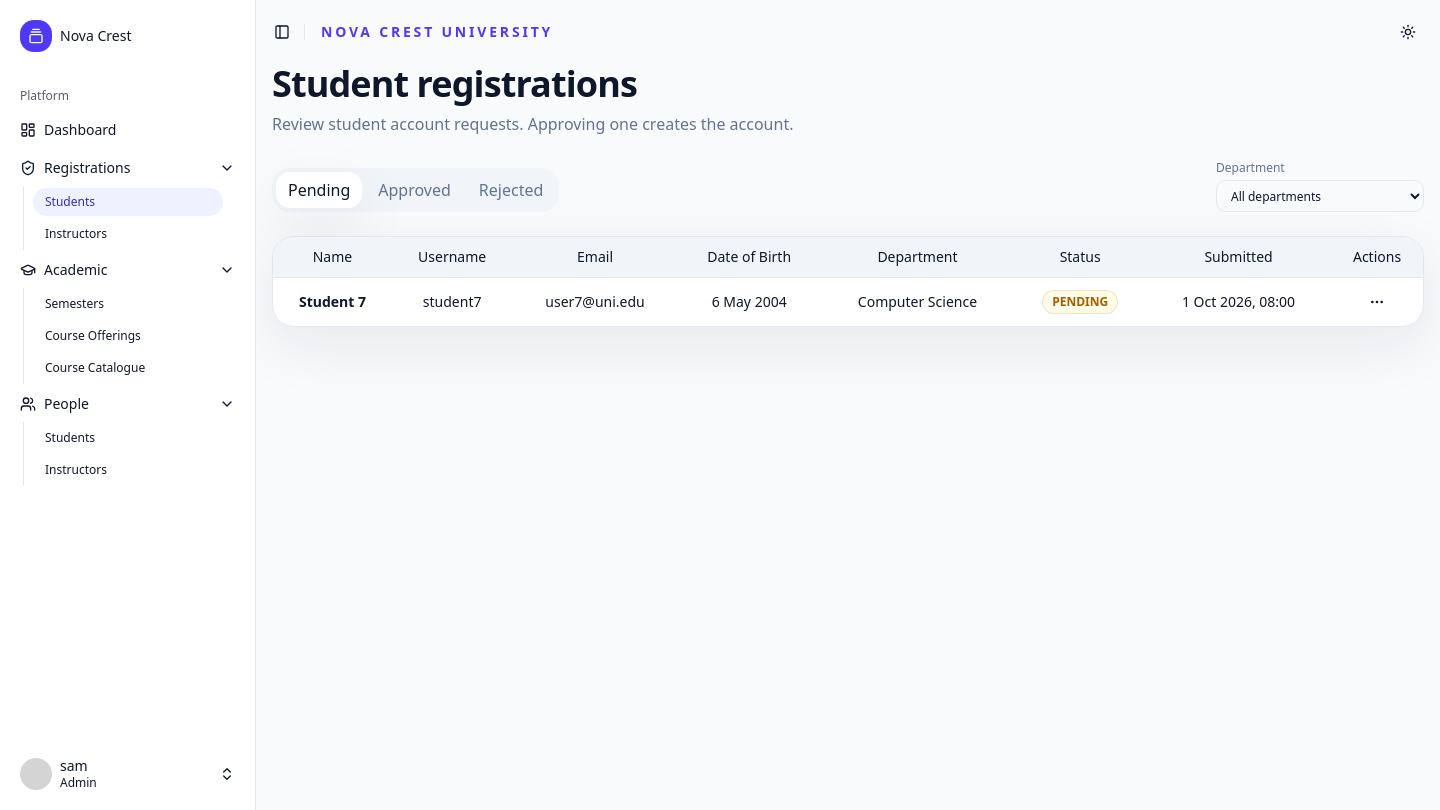
Test: RegistrationsView › approves a request after confirmation and refreshes the list
The image size is (1440, 810).
Click the button without text in the row of "Student 7": (1377,302) [1361,286,1393,318]
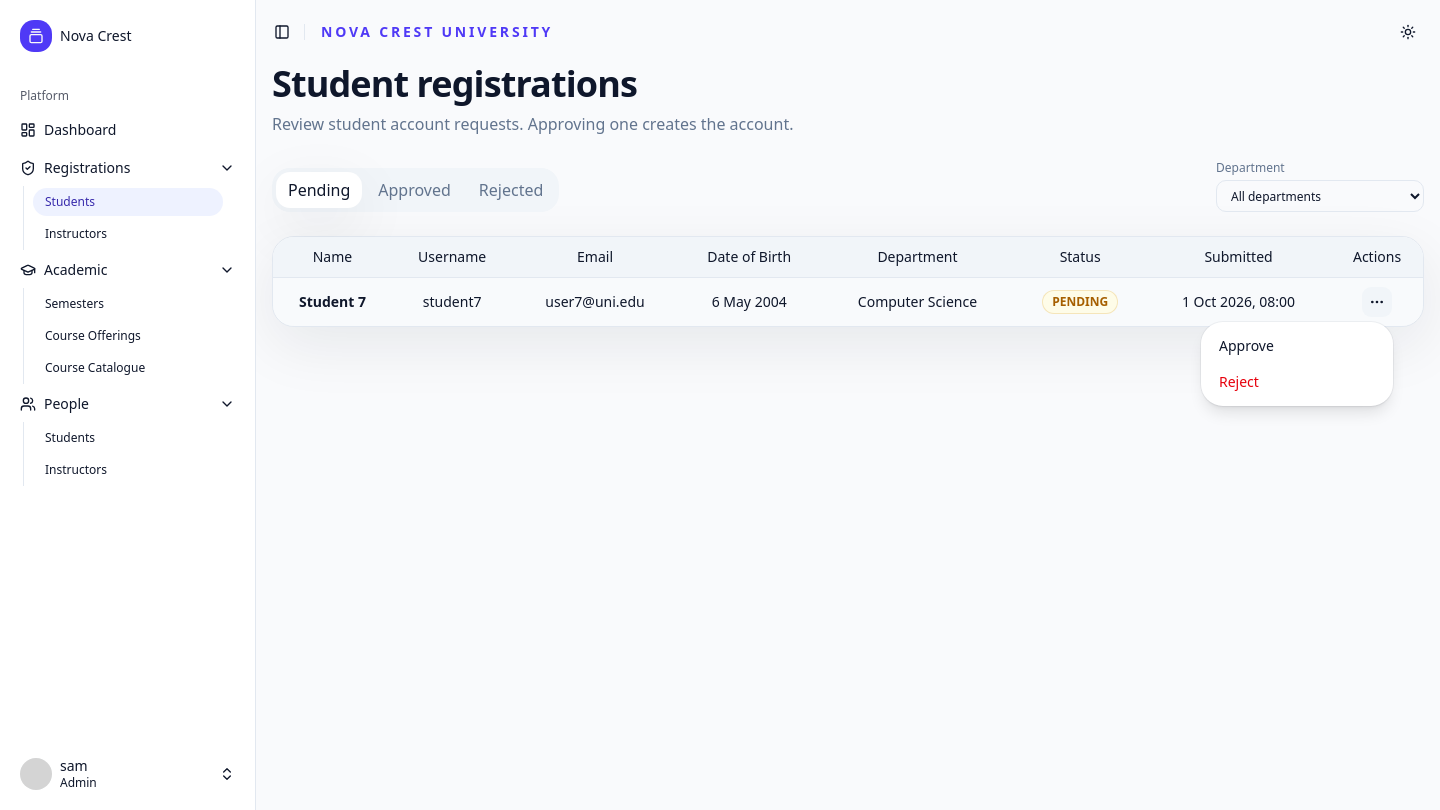
Click the menu item "Approve": (1246,346) [1219,336,1274,355]
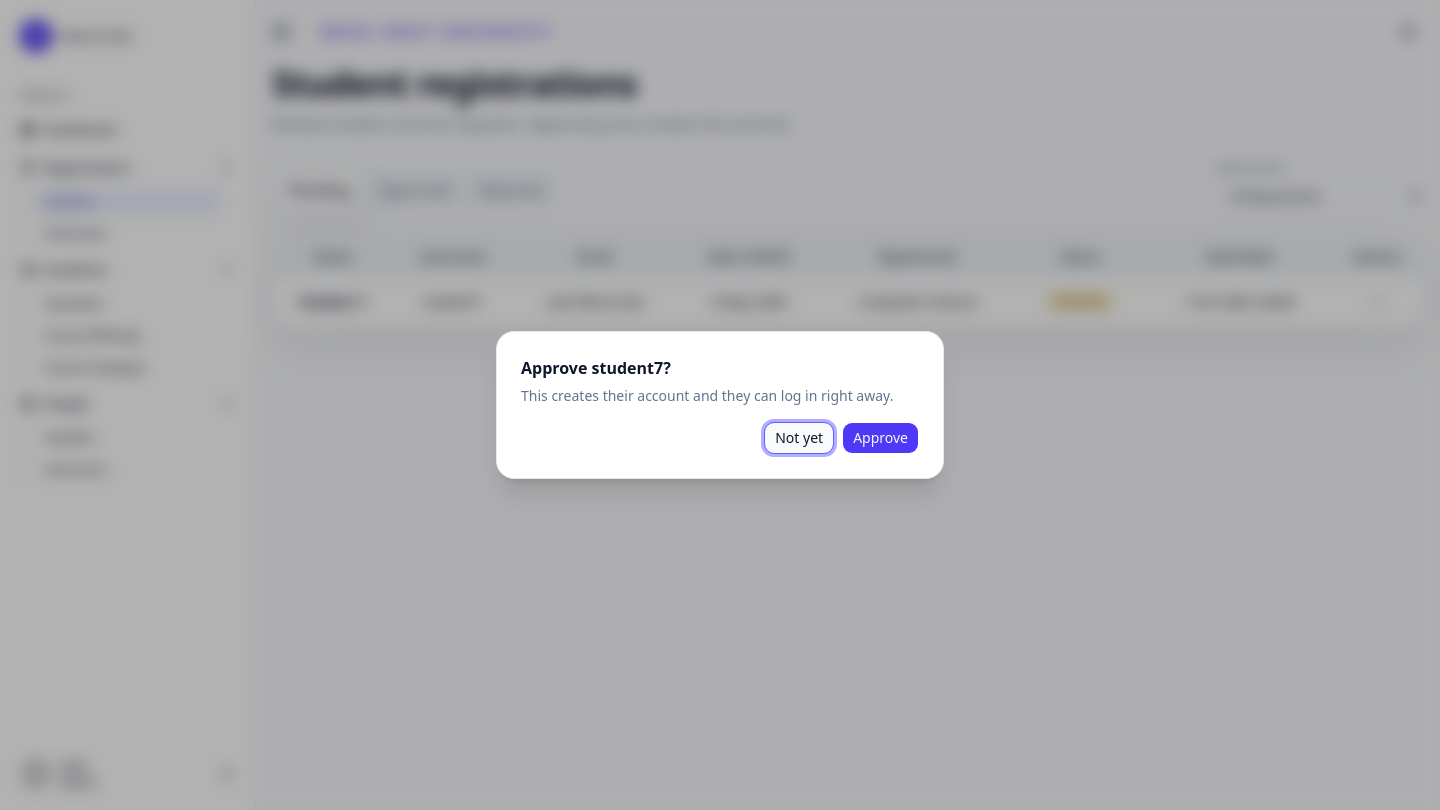
Click the button "Approve": (881,438) [842,422,919,454]
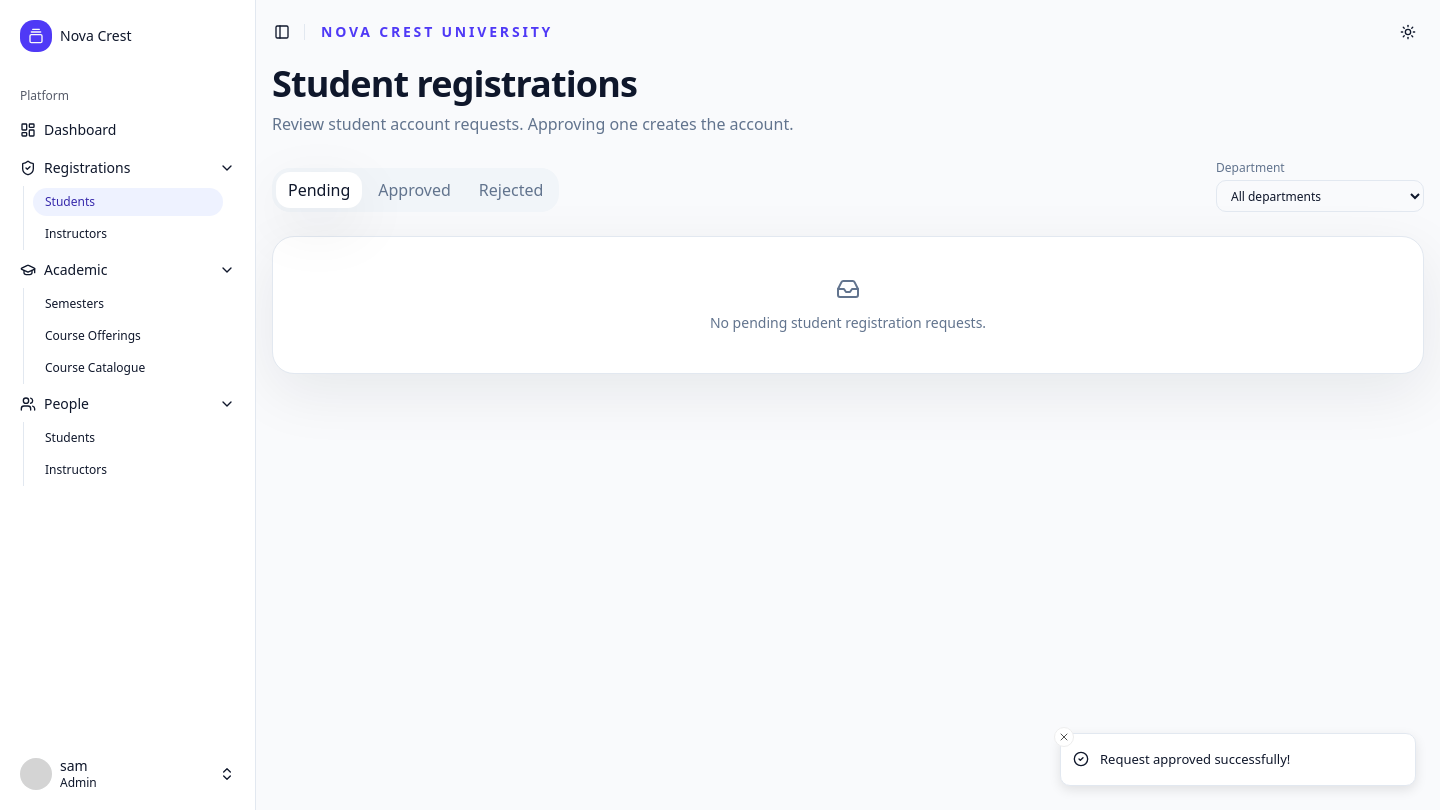
Check: the text "No pending student registration requests." is shown, box [710,313,986,333]
Check: the text "Request approved successfully!" is shown, box [1100,750,1290,769]
